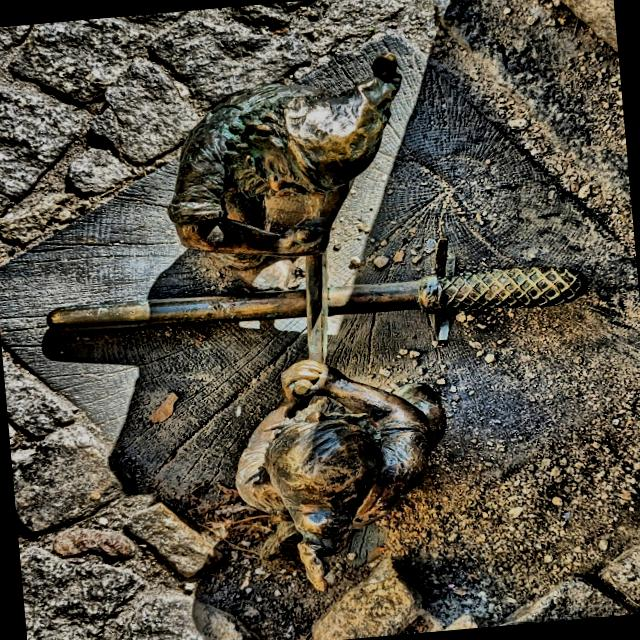Wyrostek i Zadymek: (47, 53, 586, 590)
